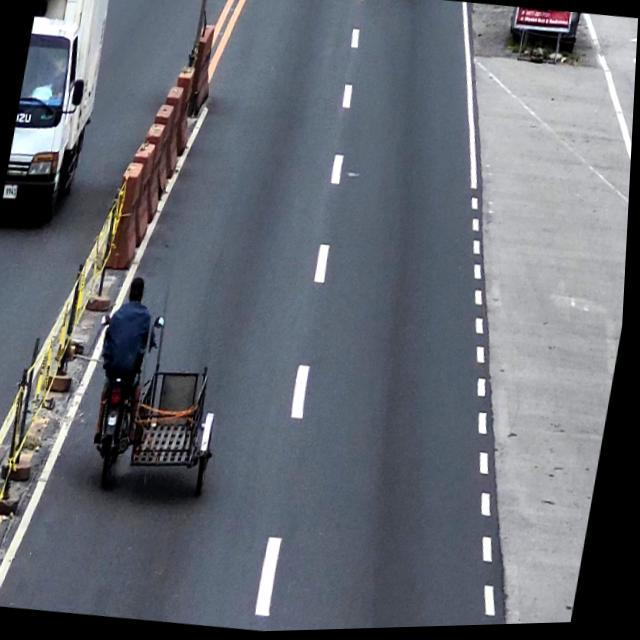Tricycle: (77, 309, 242, 501)
